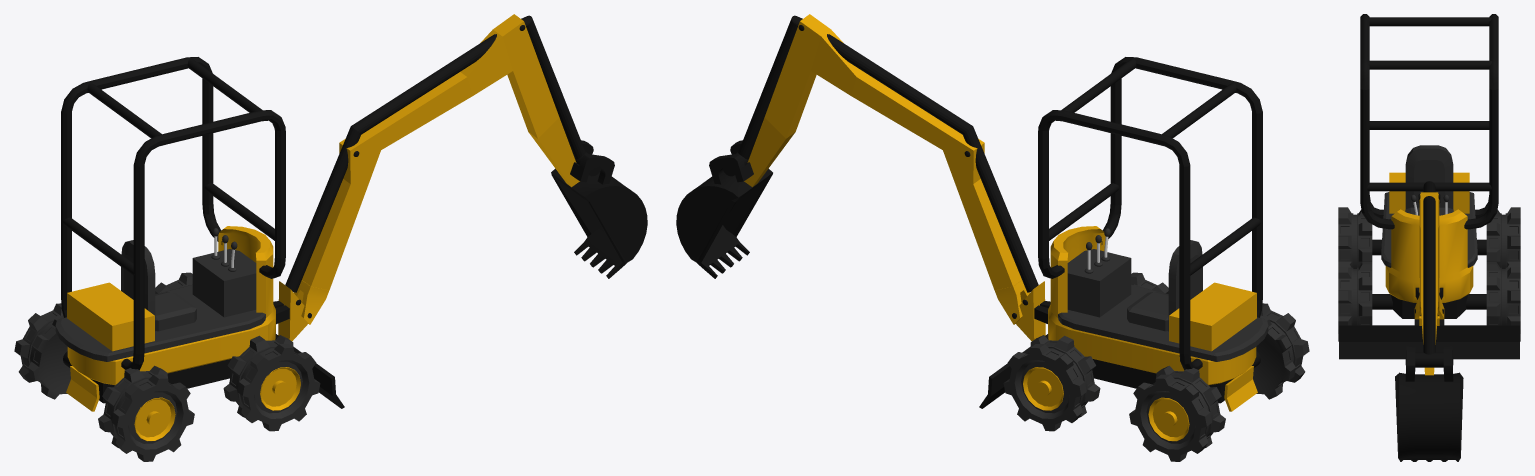
The model's file is Excavadora.fbx.
3 renders of one model, left to right at view 1: azimuth 30°, elevation 25°; view 2: azimuth 150°, elevation 25°; view 3: azimuth 270°, elevation 25°, orthographic. The views are drawn at different scales.
Visible parts, largest first — view 1: Cube.005, Cube.013, Circle.003, Circle.001, Circle.010, Sphere, Circle, Circle.009, Cube.010, Cube.011, Cube.002, Cube.007 (+12 smaller); view 2: Cube.005, Cube.013, Circle.003, Circle.001, Circle.010, Sphere, Circle, Circle.009, Cube.010, Cube.011, Cube.002, Cube.007 (+12 smaller); view 3: Sphere, Cube, Circle.001, Cube.013, Circle, Circle.003, Circle.010, Cube.008, Cube.005, Cylinder, Cylinder.001, Circle.009 (+9 smaller).
Part boxes in pixels (<box>): Cube.005: <box>302,14,579,290</box>; Cube.013: <box>61,57,285,370</box>; Circle.003: <box>14,303,194,461</box>; Circle.001: <box>67,226,289,385</box>; Circle.010: <box>285,15,585,292</box>; Sphere: <box>551,168,647,278</box>; Circle: <box>155,272,320,431</box>; Circle.009: <box>55,284,265,361</box>; Cube.010: <box>67,282,154,351</box>; Cube.011: <box>192,249,256,317</box>; Cube.002: <box>90,359,231,403</box>; Cube.007: <box>155,291,196,331</box>; Cube.005: <box>744,14,1021,290</box>; Cube.013: <box>1038,57,1262,370</box>; Circle.003: <box>1129,303,1309,461</box>; Circle.001: <box>1034,226,1256,385</box>; Circle.010: <box>738,15,1038,292</box>; Sphere: <box>676,168,772,278</box>; Circle: <box>1003,272,1168,431</box>; Circle.009: <box>1058,284,1268,361</box>; Cube.010: <box>1169,282,1256,351</box>; Cube.011: <box>1067,249,1131,317</box>; Cube.002: <box>1092,359,1233,403</box>; Cube.007: <box>1127,291,1168,331</box>; Sphere: <box>1395,372,1463,461</box>; Cube: <box>1339,325,1519,359</box>; Circle.001: <box>1385,209,1473,302</box>; Cube.013: <box>1360,14,1498,229</box>; Circle: <box>1338,262,1520,341</box>; Circle.003: <box>1338,207,1520,268</box>; Circle.010: <box>1423,181,1435,354</box>; Cube.008: <box>1405,145,1453,208</box>; Cube.005: <box>1419,192,1439,375</box>; Cylinder: <box>1366,60,1492,69</box>; Cylinder.001: <box>1367,17,1491,26</box>; Circle.009: <box>1381,192,1477,267</box>.
Bounding box in the file's own units: 986 × 516 × 311.
